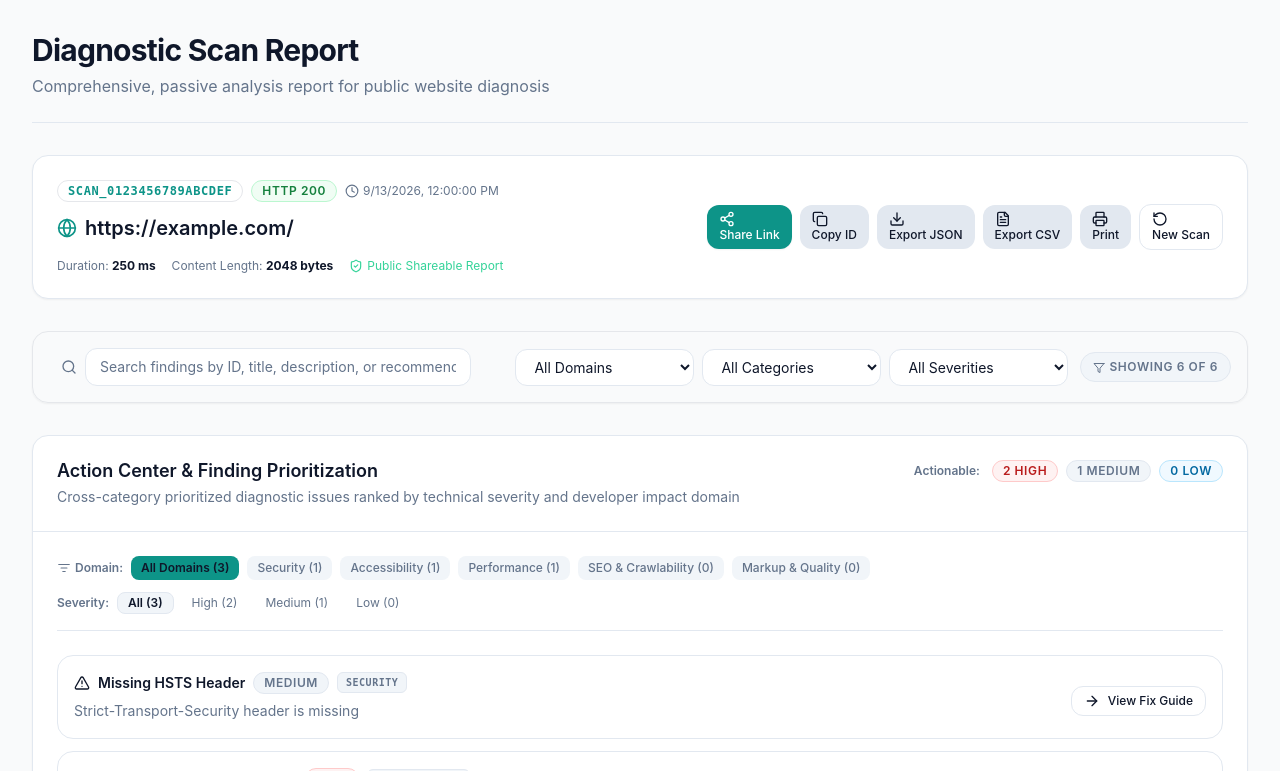
it: ReportPage & Shareable Public Report Suite › Fix 2 — Filter Contract & Domain Mapping Suite › 3. Performance domain filter displays performance findings only
This screenshot has width=1280, height=771.
Expected: the heading "Missing HSTS Header" is shown, [98,672,245,692]
Select "Performance" in the dropdown named "Filter findings by technical domain" at (605, 367), box [515,348,694,386]
(page scrolled)
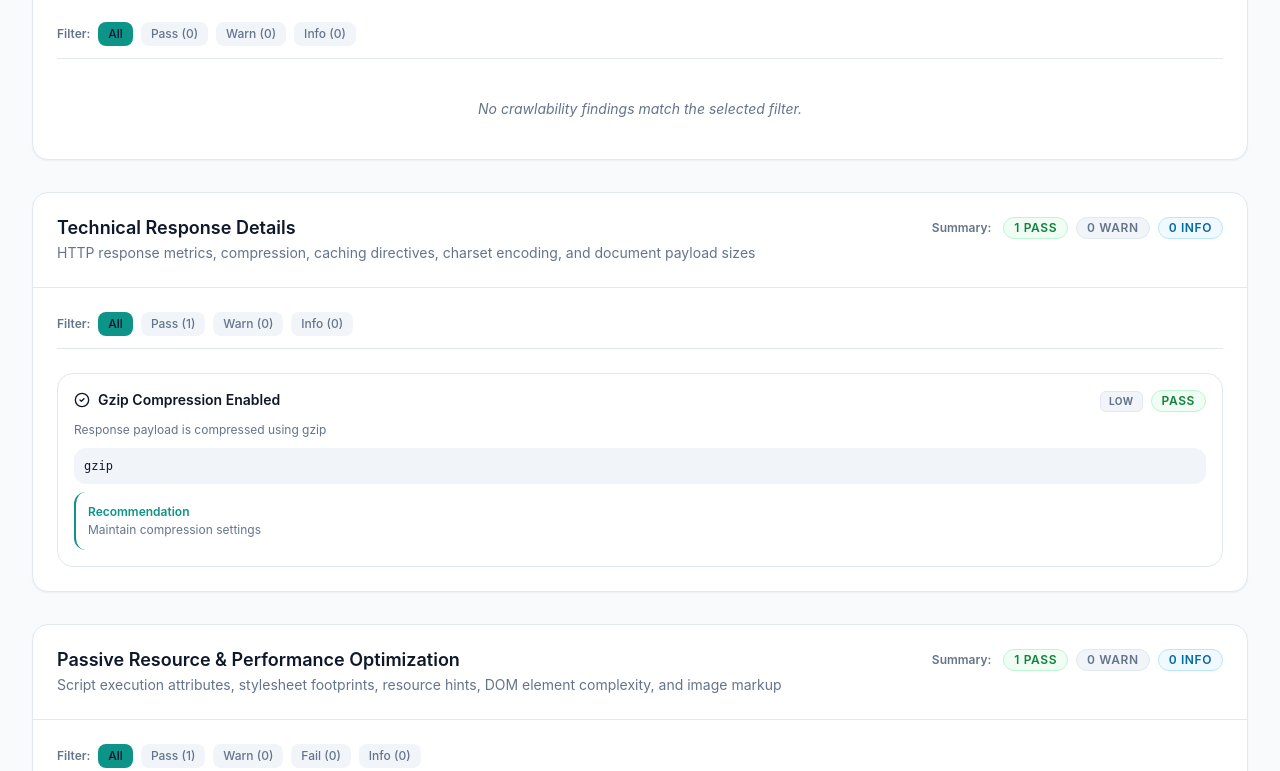
Expected: the heading "Gzip Compression Enabled" is shown, [98,390,280,410]
Expected: the heading "Missing HSTS Header" is gone
